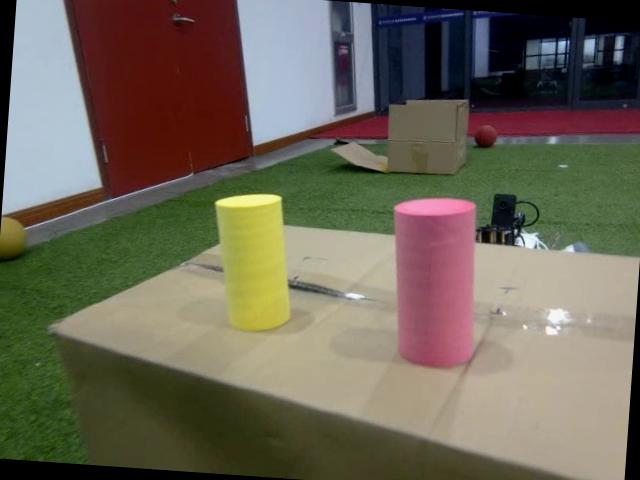red_cylinder: (377, 190, 490, 372)
yellow_ball: (0, 214, 31, 261)
yellow_cylinder: (200, 189, 300, 334)
